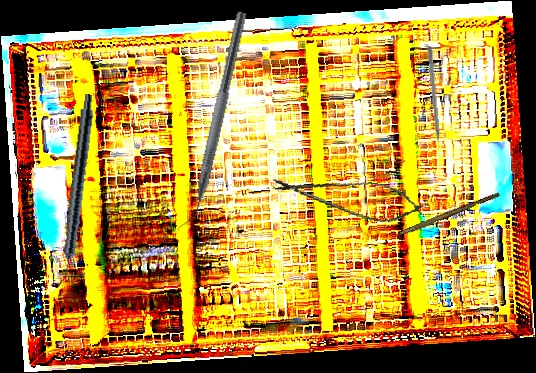Chopper: (174, 6, 248, 237)
Handpiece: (54, 93, 97, 289)
Micro Scissor: (267, 166, 429, 229)
Pusher: (426, 45, 442, 159)
Scalpel Handle: (397, 190, 501, 239)
